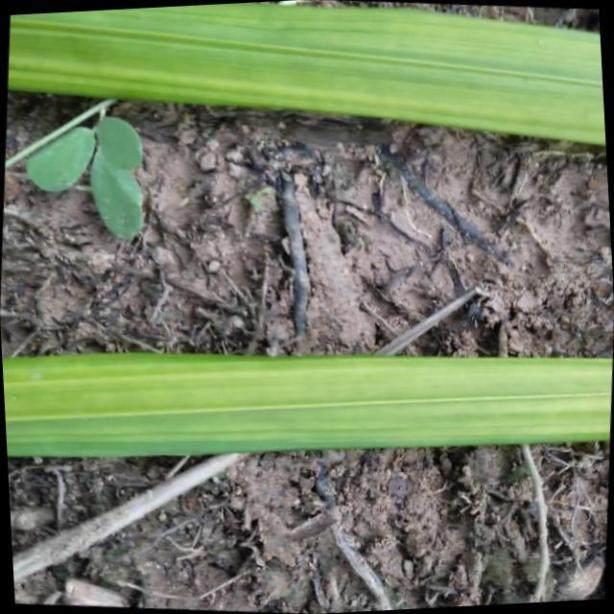nitrogen: (6, 0, 614, 149), (0, 352, 614, 457)
